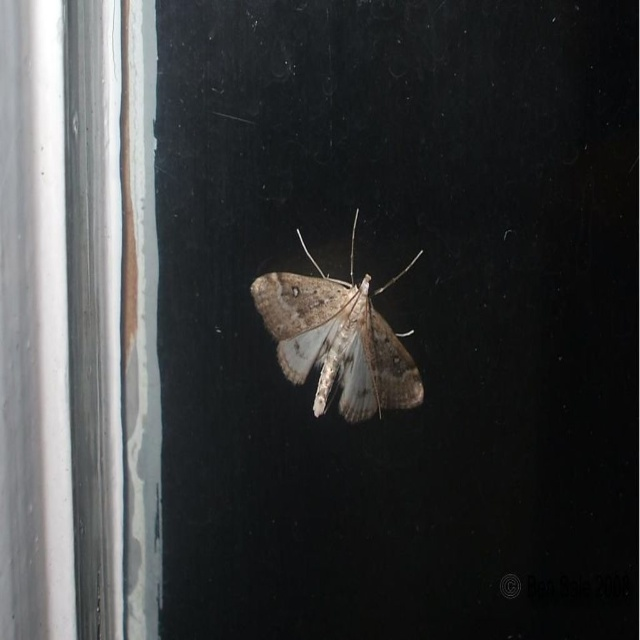Butterfly: (249, 205, 424, 418)
